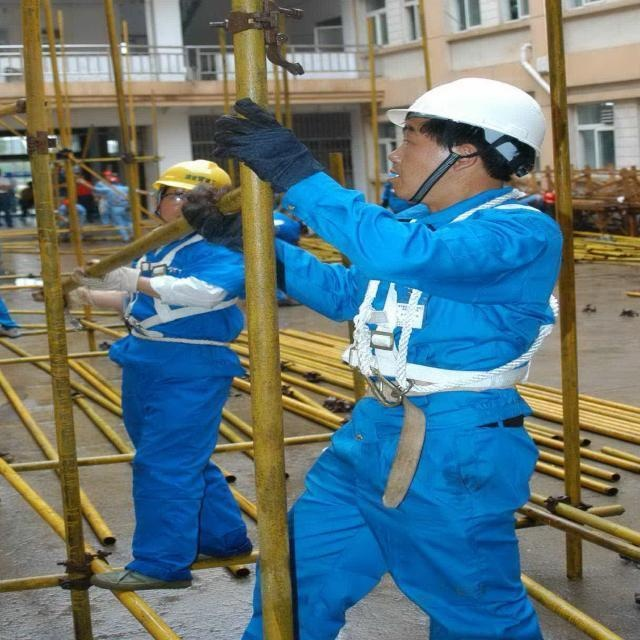Arnes_seguridad: (333, 187, 564, 399), (117, 231, 243, 343)
